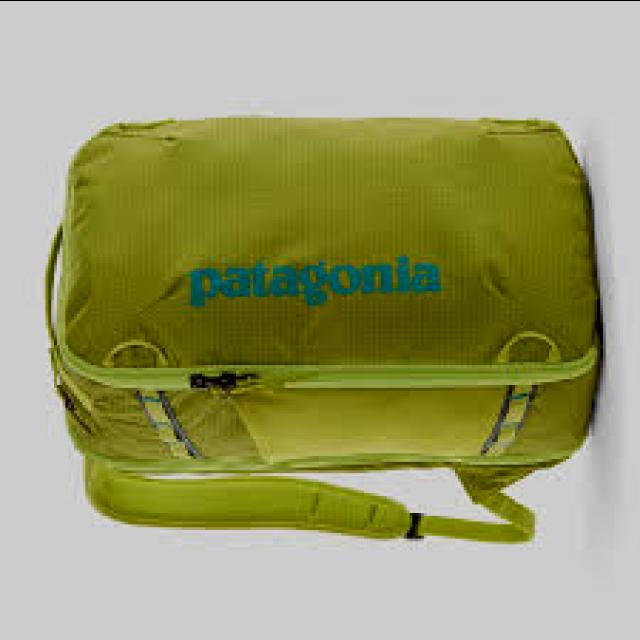backpack: (44, 118, 602, 544)
